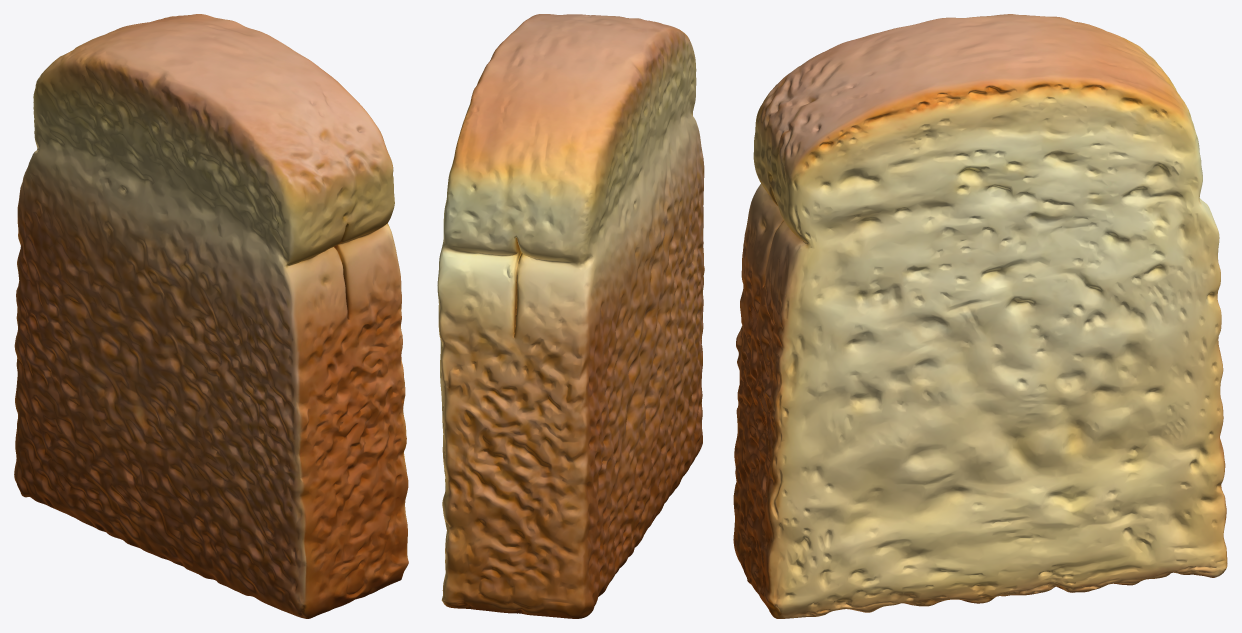
File: Bread.fbx
3 renders of one model, left to right at view 1: azimuth 30°, elevation 25°; view 2: azimuth 150°, elevation 25°; view 3: azimuth 270°, elevation 25°, orthographic. The views are drawn at different scales.
Parts seen in each view (by area): view 1: tripo_node_9cb827d1; view 2: tripo_node_9cb827d1; view 3: tripo_node_9cb827d1.
Part boxes in pixels (left/top/right/bottom): tripo_node_9cb827d1: left=14, top=14, right=408, bottom=618; tripo_node_9cb827d1: left=437, top=14, right=704, bottom=618; tripo_node_9cb827d1: left=733, top=14, right=1227, bottom=618.
Bounding box in the file's own units: 44.2 × 82.67 × 98.05.
